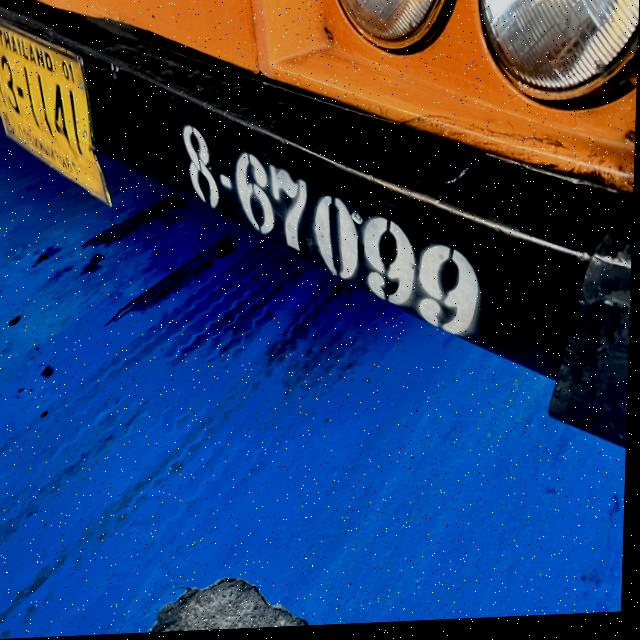BMTA-bus: (0, 0, 640, 512)
